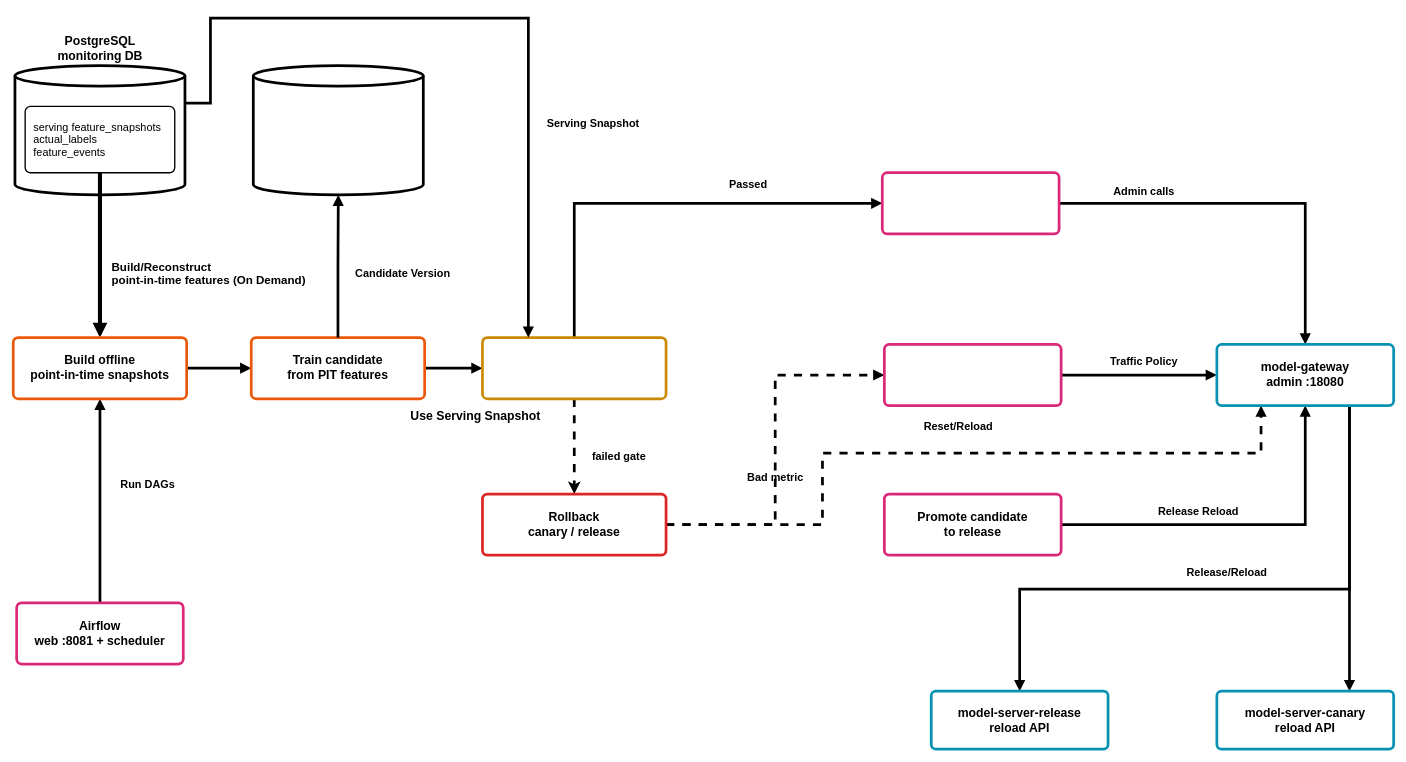
Some shapes in this 1406 by 762 pixel diagram are drawn without their labels. Here are the shapes that lost their labels. From the top down, the centre of each, then its label:
At (338,130): "MLflow Registry".
At (970,203): "Deploy canary reload model version".
At (574,368): "Candidate gates offline + serving snapshot".
At (972,375): "Set canary traffic 1 / 5 / 10 / 50 / 100%".
